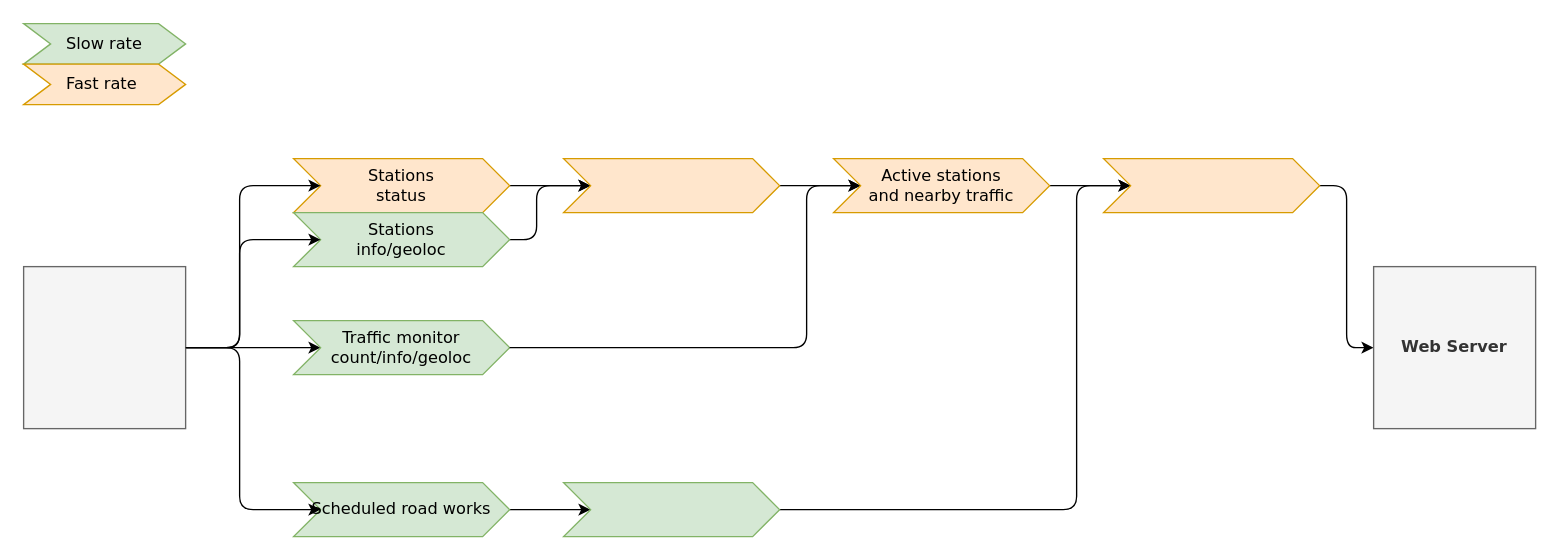
This 1559x560 diagram has some shape labels left out. The centre of each missing label's shape, as x and y in pixels:
"Active stations status/info/geoloc" goes at point (671, 185).
"Active stations with nearby traffic and closed roads" goes at point (1211, 185).
"Closed roads" goes at point (671, 509).
"Paris OpenData API" goes at point (104, 347).
